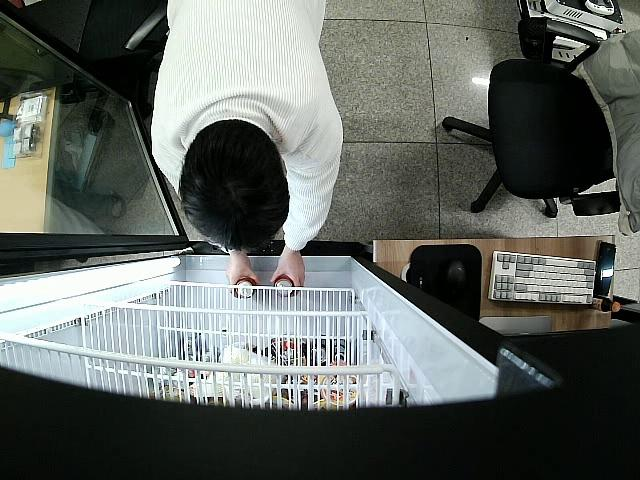00_hand: (271, 254, 306, 299), (226, 256, 259, 297)
11_cocaColaZero: (231, 275, 257, 299), (273, 273, 296, 299)
